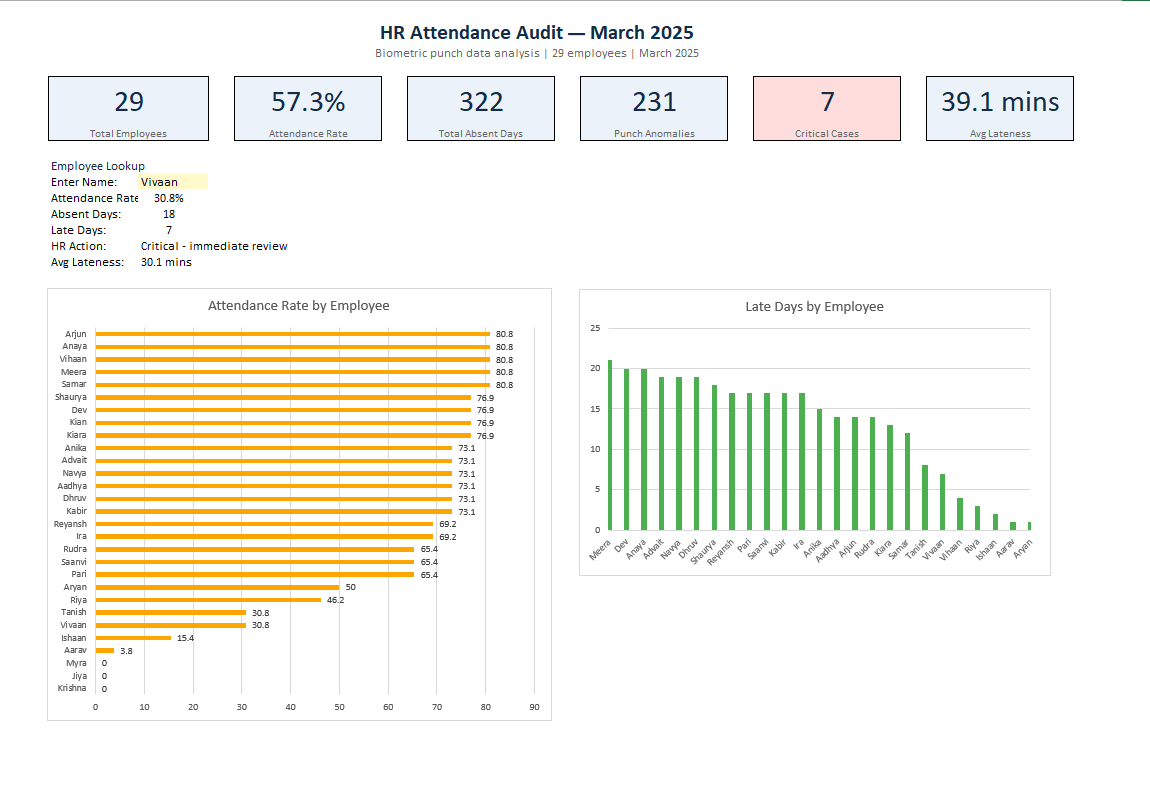

Layout of this report page (visuals, bound fields, positions):
{"tool":"powerbi","page":{"name":"Page 1","canvas":[900,1600],"ordinal":0},"visuals":[{"type":"slicer","title":"Filter by Status","fields":{"Values":["Attendance.status_clean"]},"box":[458.6,82.9,421.4,87.1],"z":0},{"type":"shape","box":[674.3,170,214.3,154.3],"z":0,"group":"g7"},{"type":"textbox","box":[28.7,23.2,501,60.1],"z":1000},{"type":"shape","box":[674.3,324.3,214.3,154.3],"z":1000,"group":"g3"},{"type":"group","id":"g1","title":"Group 1","box":[12.9,82.9,440,788.6],"z":2000},{"type":"shape","box":[452.9,324.3,214.3,154.3],"z":2000,"group":"g2"},{"type":"group","id":"g2","title":"Group 2","box":[452.9,324.3,214.3,154.3],"z":3000},{"type":"shape","box":[451.4,478.6,437.1,392.9],"z":3000,"group":"g4"},{"type":"shape","box":[452.9,170,214.3,154.3],"z":4000,"group":"g6"},{"type":"group","id":"g3","title":"Group 3","box":[674.3,324.3,214.3,154.3],"z":4000},{"type":"group","id":"g4","title":"Group 4","box":[451.4,478.6,437.1,392.9],"z":5000},{"type":"shape","box":[12.9,871.4,874.3,701.4],"z":5000,"group":"g5"},{"type":"shape","box":[12.9,82.9,440,788.6],"z":6000,"group":"g1"},{"type":"group","id":"g5","title":"Group 5","box":[12.9,871.4,874.3,701.4],"z":6000},{"type":"group","id":"g6","title":"Group 6","box":[452.9,170,214.3,154.3],"z":7000},{"type":"cardVisual","fields":{"Data":["Count(Attendance.emp_name)"]},"box":[465.8,188.6,187.1,115.7],"z":7000,"group":"g6"},{"type":"group","id":"g7","title":"Group 7","box":[674.3,170,214.3,154.3],"z":8000},{"type":"cardVisual","fields":{"Data":["Attendance.Attendance Rate %"]},"box":[687.2,188.6,187.1,115.7],"z":8000,"group":"g7"},{"type":"cardVisual","fields":{"Data":["Attendance.Count of status_clean for Absent"]},"box":[465.8,342.9,187.1,115.7],"z":9000,"group":"g2"},{"type":"cardVisual","fields":{"Data":["Attendance.Punch Anomalies"]},"box":[688.6,342.9,187.1,115.7],"z":10000,"group":"g3"},{"type":"clusteredBarChart","title":"Attendance Rate by Employee - March 2025","fields":{"Category":["Attendance.emp_name"],"Y":["Attendance.Attendance Rate %"]},"box":[28.6,106.4,408.6,741.5],"z":11000,"group":"g1"},{"type":"donutChart","title":"Punch Record Integrity - March 2025","fields":{"Category":["Attendance.punch_flag"],"Y":["CountNonNull(Attendance.punch_flag)"]},"box":[459,499.7,419.1,348.1],"z":12000,"group":"g4"},{"type":"pivotTable","title":"Late Arrival Pattern - March 2025","fields":{"Rows":["Attendance.emp_name"],"Values":["Avg(Attendance.lateby_mins)"],"Columns":["Attendance.att_date"]},"box":[38.6,905.7,822.9,657.1],"z":13000,"group":"g5"}]}

Visuals, with their boxes on the page's 900x1600 design canvas (x1, y1, x2, y2). These are canvas units, not pixel positions in the 1150x796 screenshot, which may show the page scaled, cropped or inside an application window:
"Filter by Status" slicer: select_region(459, 83, 880, 170)
shape: select_region(674, 170, 889, 324)
textbox: select_region(29, 23, 530, 83)
shape: select_region(674, 324, 889, 479)
"Group 1" group: select_region(13, 83, 453, 872)
shape: select_region(453, 324, 667, 479)
"Group 2" group: select_region(453, 324, 667, 479)
shape: select_region(451, 479, 888, 872)
shape: select_region(453, 170, 667, 324)
"Group 3" group: select_region(674, 324, 889, 479)
"Group 4" group: select_region(451, 479, 888, 872)
shape: select_region(13, 871, 887, 1573)
shape: select_region(13, 83, 453, 872)
"Group 5" group: select_region(13, 871, 887, 1573)
"Group 6" group: select_region(453, 170, 667, 324)
cardVisual - Count(Attendance.emp_name): select_region(466, 189, 653, 304)
"Group 7" group: select_region(674, 170, 889, 324)
cardVisual - Attendance.Attendance Rate %: select_region(687, 189, 874, 304)
cardVisual - Attendance.Count of status_clean for Absent: select_region(466, 343, 653, 459)
cardVisual - Attendance.Punch Anomalies: select_region(689, 343, 876, 459)
"Attendance Rate by Employee - March 2025" clusteredBarChart: select_region(29, 106, 437, 848)
"Punch Record Integrity - March 2025" donutChart: select_region(459, 500, 878, 848)
"Late Arrival Pattern - March 2025" pivotTable: select_region(39, 906, 862, 1563)
